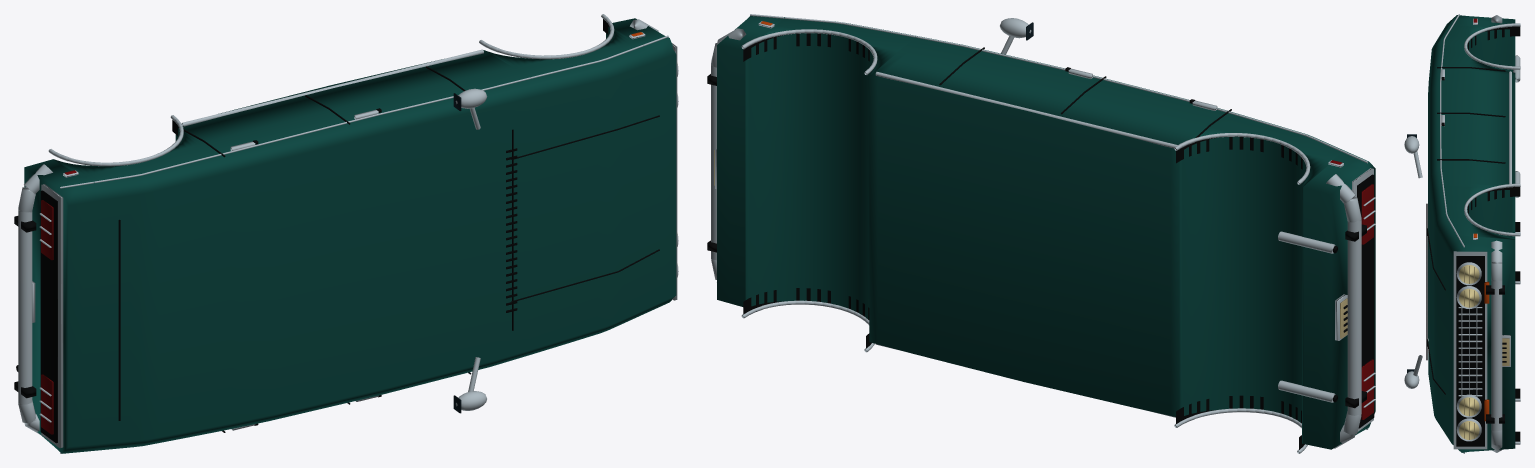
Rendered from Car70Body1.obj.
The picture shows the model from 3 angles, left to right: view 1: azimuth 30°, elevation 25°; view 2: azimuth 150°, elevation 25°; view 3: azimuth 270°, elevation 25°; orthographic projection. The views are drawn at different scales.
Parts seen in each view (by area): view 1: Car70Body1; view 2: Car70Body1; view 3: Car70Body1.
Part boxes in pixels (<box>): Car70Body1: <box>14,14,678,453</box>; Car70Body1: <box>707,14,1375,453</box>; Car70Body1: <box>1404,14,1520,453</box>.
Bounding box in the file's own units: 466 × 220 × 93.09.
